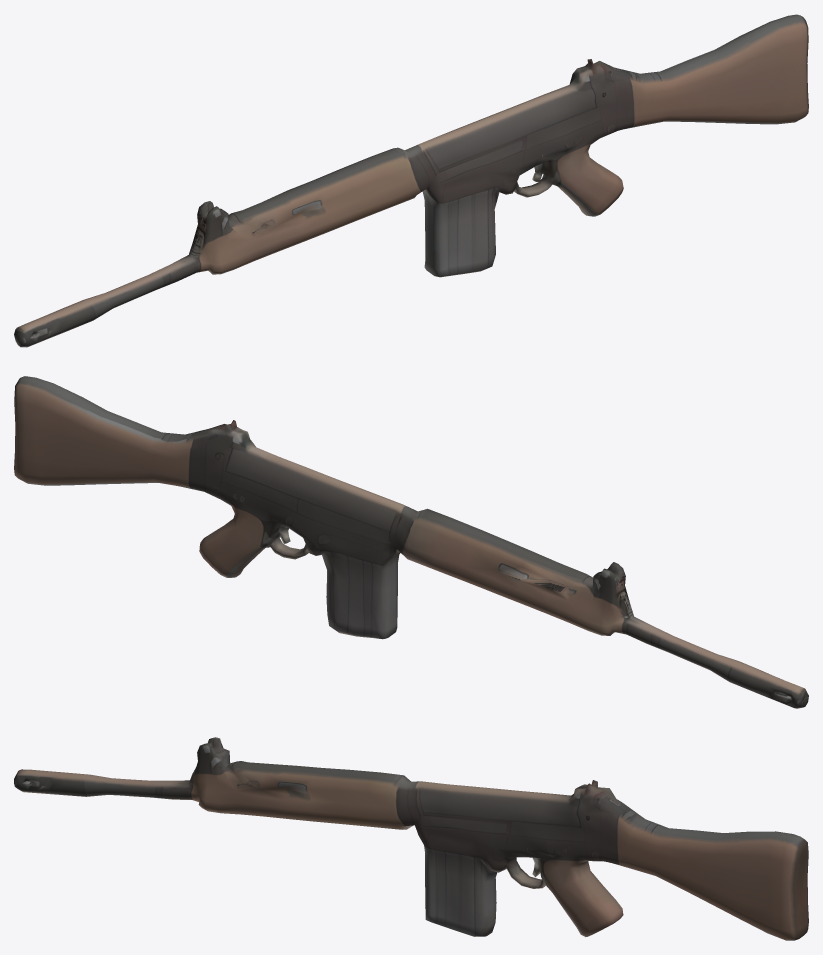
File: rifle.fbx
3 renders of one model, top to bottom at view 1: azimuth 30°, elevation 25°; view 2: azimuth 150°, elevation 25°; view 3: azimuth 330°, elevation 25°, orthographic.
Parts seen in each view (by area): view 1: rifle; view 2: rifle; view 3: rifle.
Boxes of the visible parts, <box> form: rifle: <box>14,14,808,347</box>; rifle: <box>14,376,808,708</box>; rifle: <box>14,737,808,940</box>.
Size of the model in its own units: 99.94 by 21.91 by 4.6.
